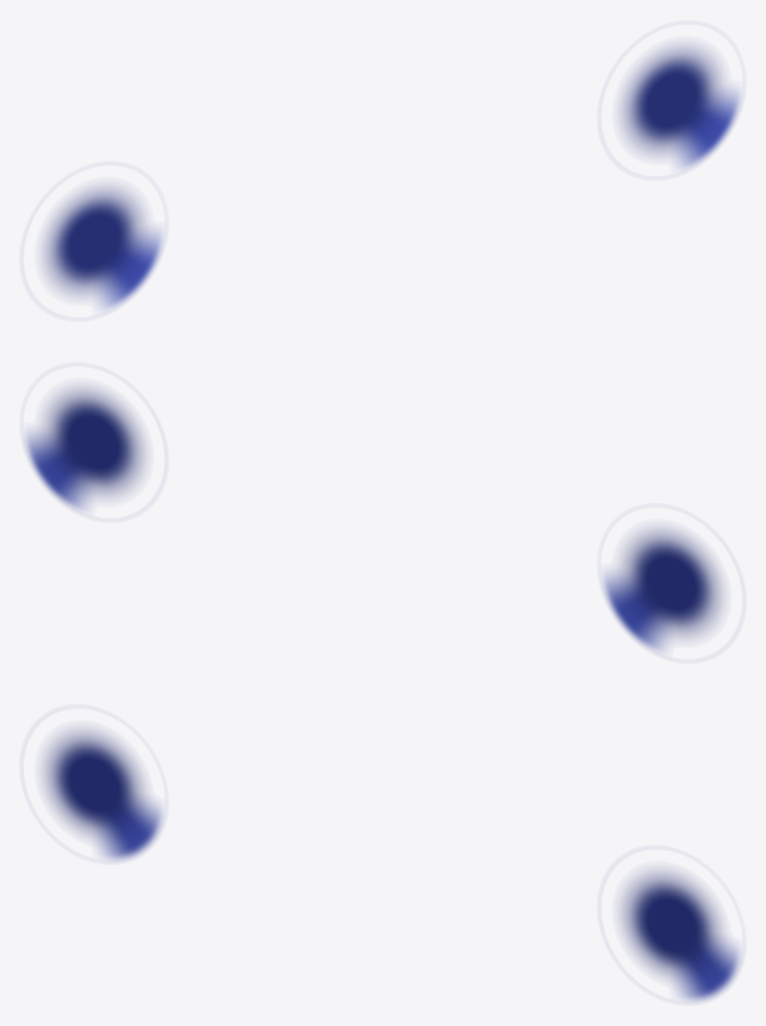
File: iris_rrr.glb
The picture shows the model from 3 angles, top to bottom: view 1: azimuth 30°, elevation 25°; view 2: azimuth 150°, elevation 25°; view 3: azimuth 330°, elevation 25°; orthographic projection.
Visible parts, largest first — view 1: eye.003, eye.002; view 2: eye.003, eye.002; view 3: eye.003, eye.002.
Part boxes in pixels (box(x1,y1,x2,y2)): eye.003: box(620, 45, 740, 168); eye.002: box(42, 186, 162, 309); eye.003: box(25, 387, 145, 510); eye.002: box(603, 528, 723, 651); eye.003: box(620, 870, 740, 1001); eye.002: box(42, 729, 162, 860).
Size of the model in its own units: 1.32 by 0.2874 by 2.33e-07.
Materials: 1 (1 with a texture image).
